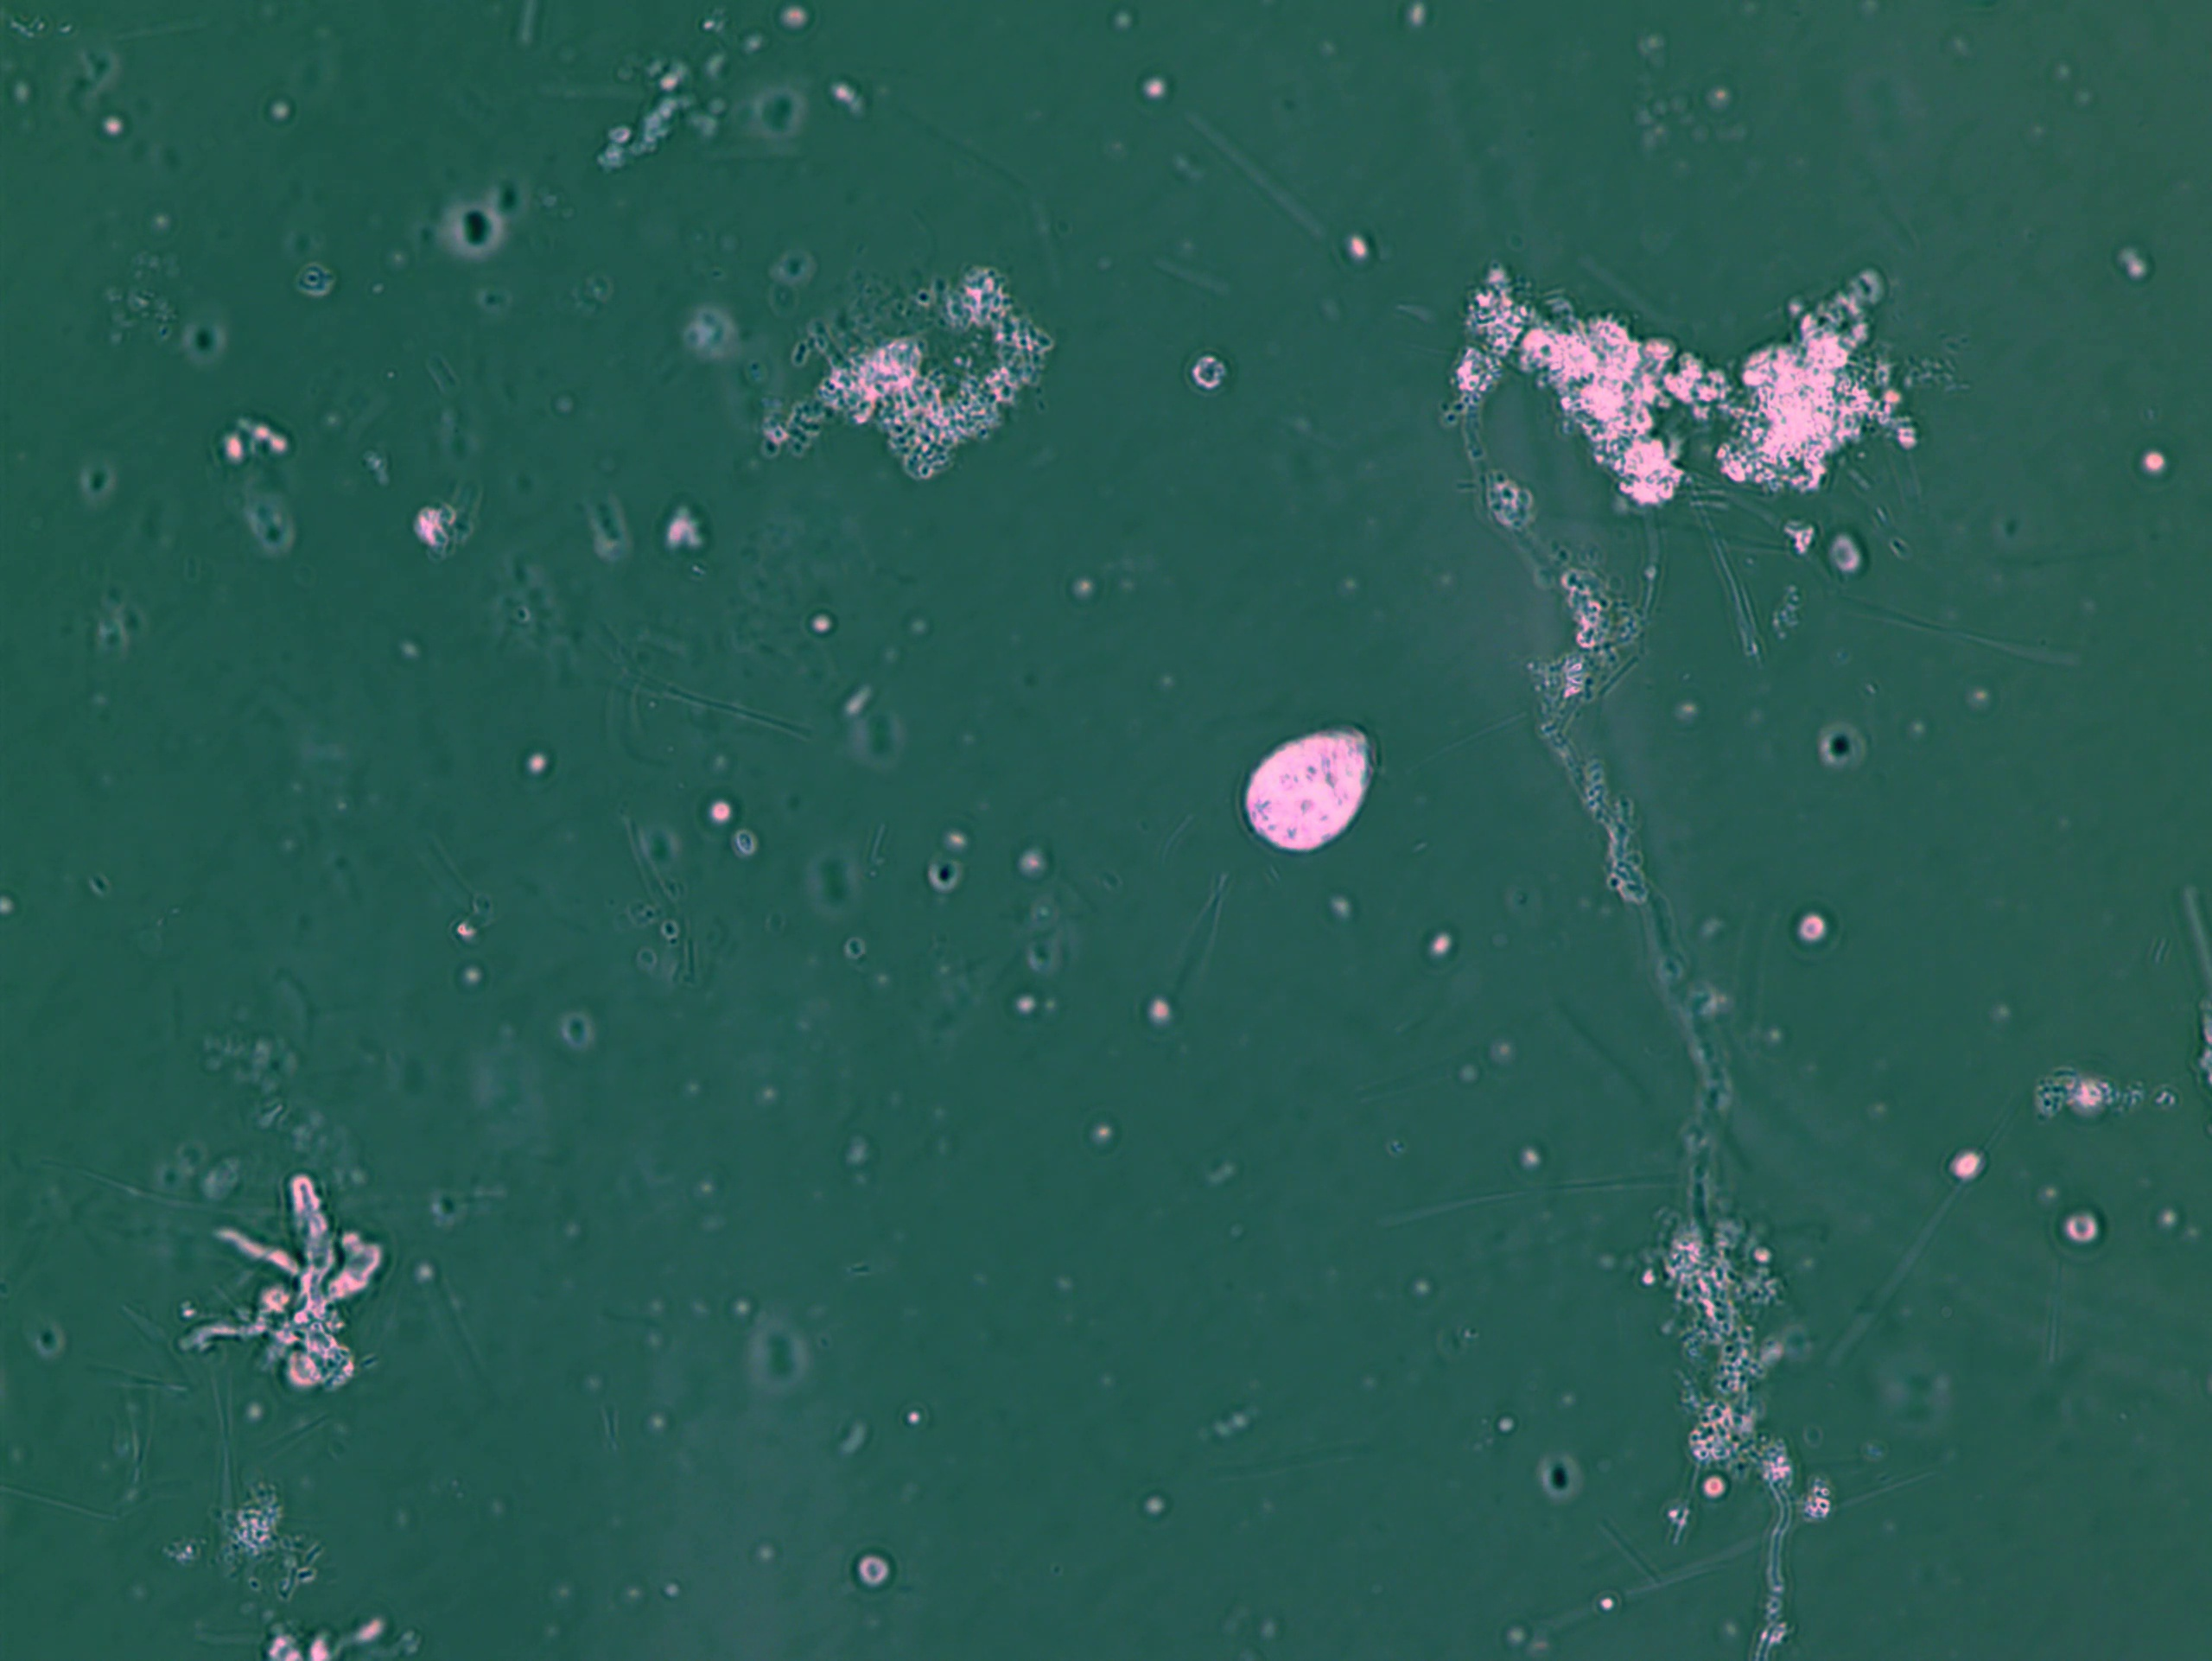depth:20: (1221, 693, 1411, 890)
